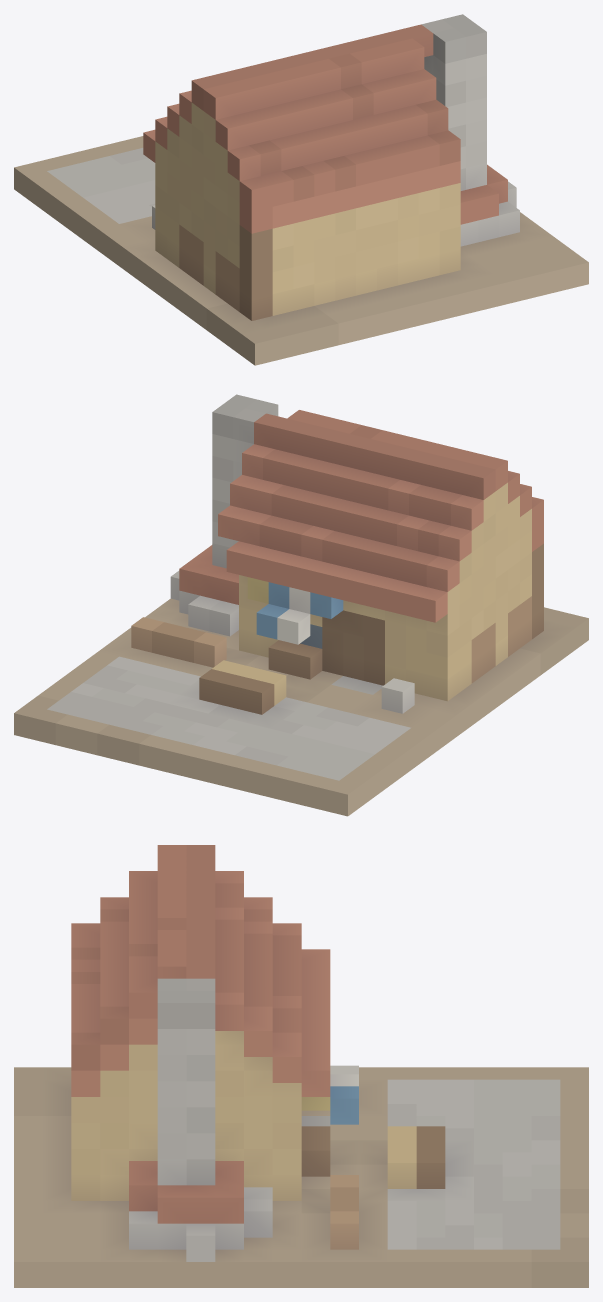
The model's file is bakery.lite.glb.
The picture shows the model from 3 angles, top to bottom: view 1: azimuth 30°, elevation 25°; view 2: azimuth 150°, elevation 25°; view 3: azimuth 270°, elevation 25°; orthographic projection. The views are drawn at different scales.
Visible parts, largest first — view 1: bakery; view 2: bakery; view 3: bakery.
Part boxes in pixels (<box>): bakery: <box>14,14,588,365</box>; bakery: <box>14,394,588,816</box>; bakery: <box>14,845,588,1287</box>.
Size of the model in its own units: 4 by 2.5 by 5.
